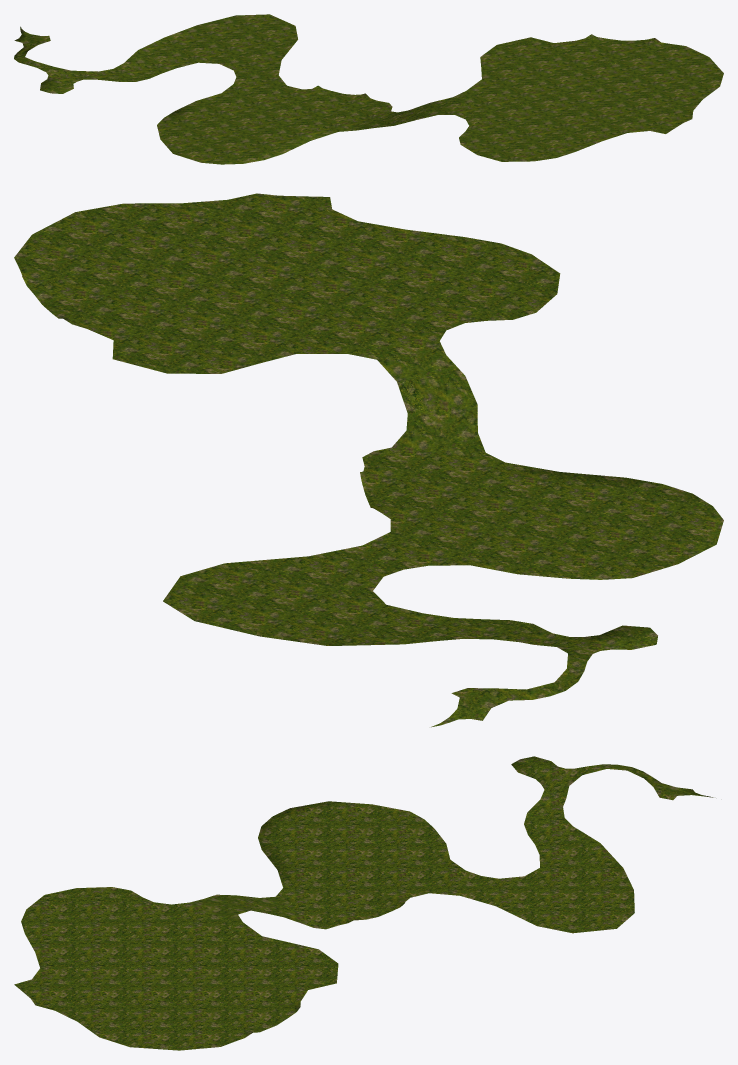
File: OVERHILL_A_01_ARCH2.fbx
The picture shows the model from 3 angles, top to bottom: view 1: azimuth 30°, elevation 25°; view 2: azimuth 150°, elevation 25°; view 3: azimuth 270°, elevation 25°; orthographic projection. The views are drawn at different scales.
Parts seen in each view (by area): view 1: OVERHILL_A_01_ARCH2; view 2: OVERHILL_A_01_ARCH2; view 3: OVERHILL_A_01_ARCH2.
Part boxes in pixels (box(x1,y1,x2,y2)): OVERHILL_A_01_ARCH2: box(14, 14, 723, 164); OVERHILL_A_01_ARCH2: box(14, 193, 723, 727); OVERHILL_A_01_ARCH2: box(14, 756, 713, 1050).
Size of the model in its own units: 287250 by 16178 by 278339.
Materials: 1 (1 with a texture image).
